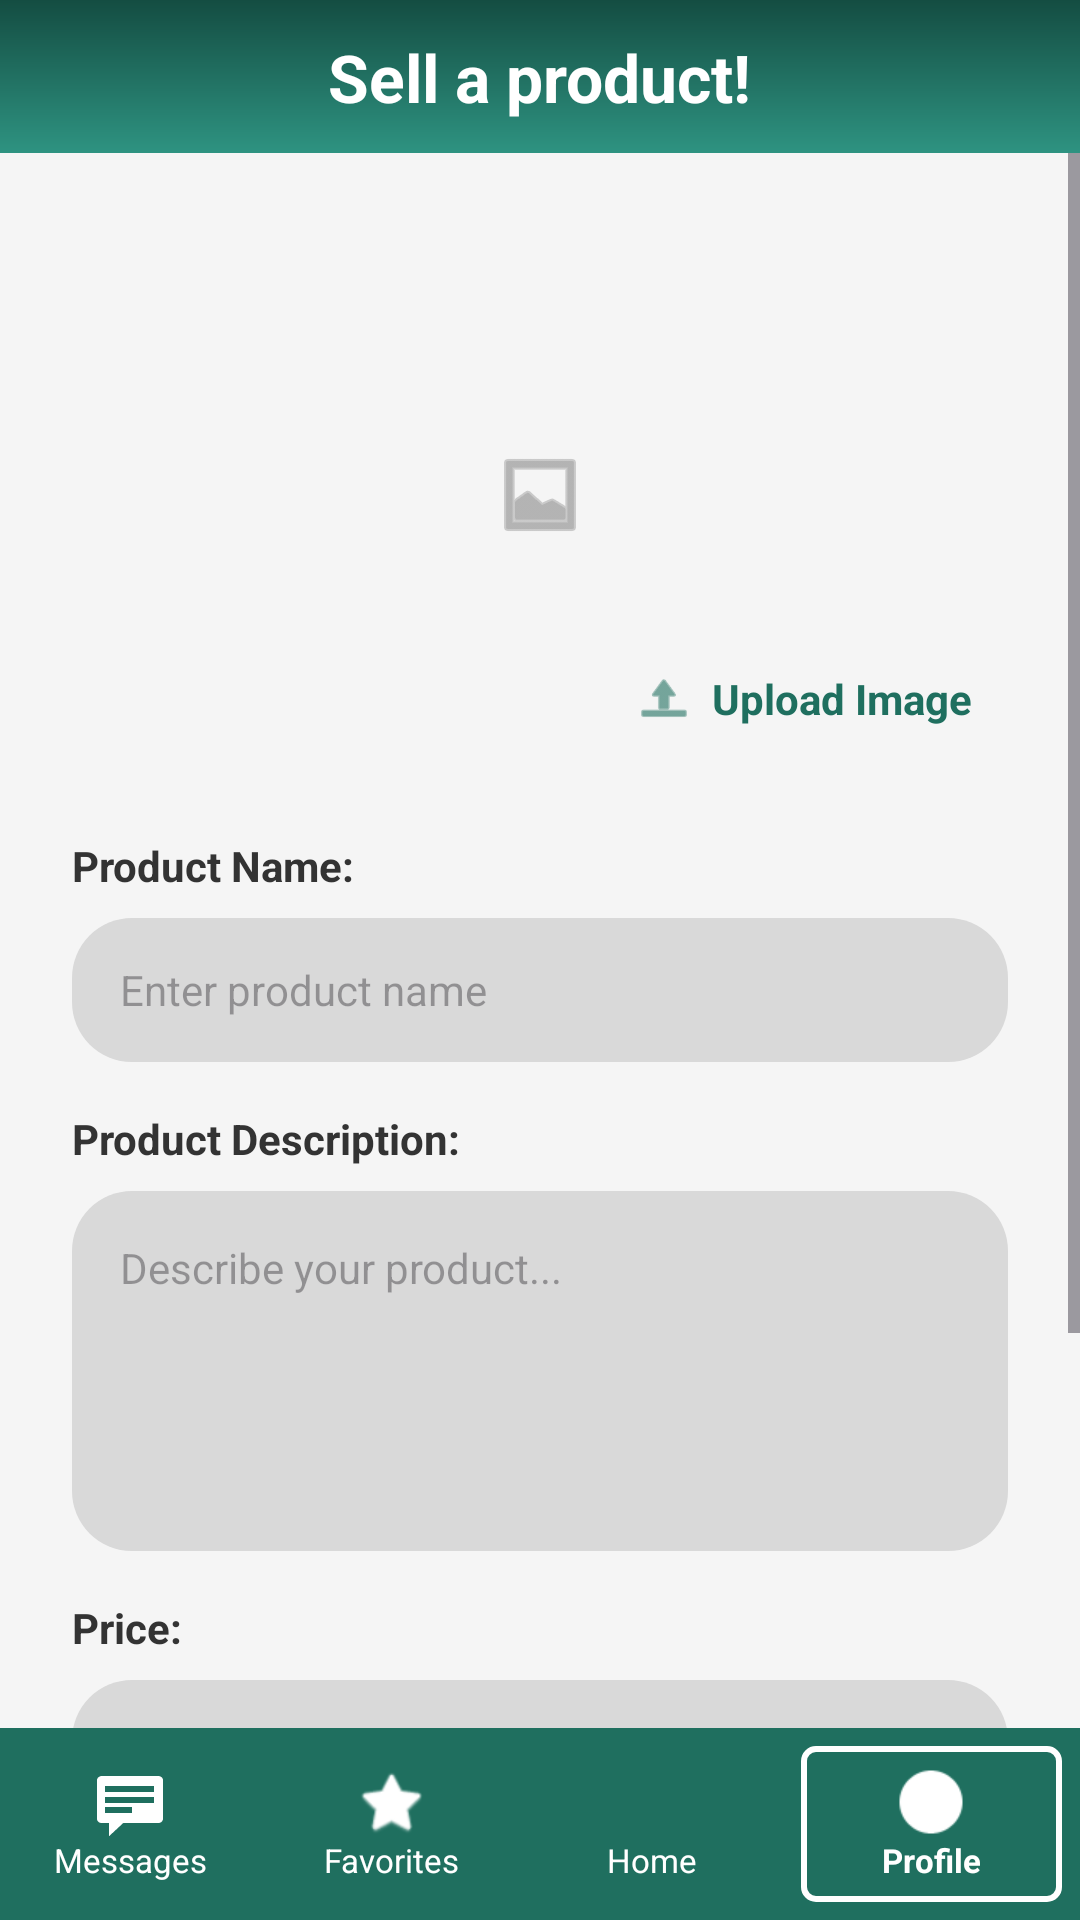

Screen size 1080x1920. Icon name, then its center in pixels as (x,y):
star on: (392,1802)
